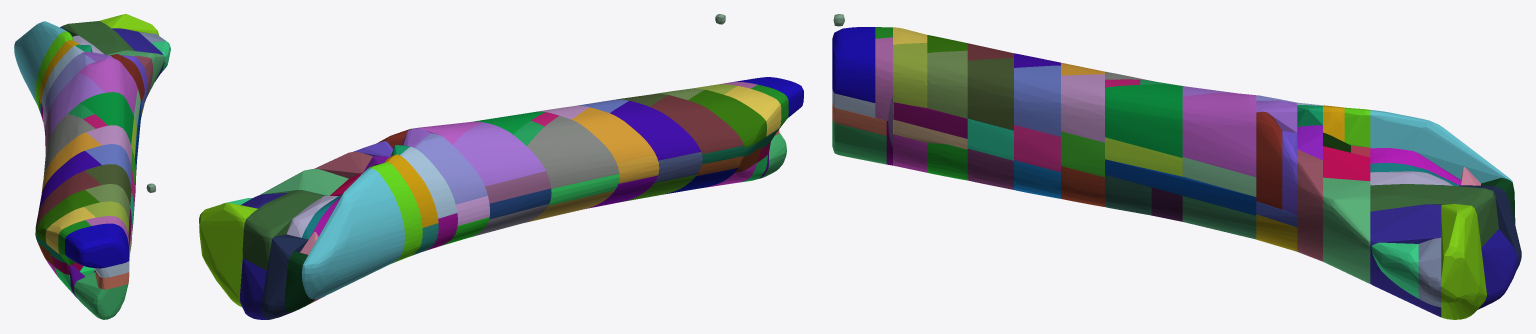
File: proximal_19822_coacd.obj
3 renders of one model, left to right at view 1: azimuth 30°, elevation 25°; view 2: azimuth 150°, elevation 25°; view 3: azimuth 270°, elevation 25°, orthographic. The views are drawn at different scales.
Visible parts, largest first — view 1: geometry_5, geometry_2, geometry_38, geometry_10, geometry_33, geometry_40, geometry_19, geometry_35, geometry_65, geometry_71, geometry_77, geometry_75 (+35 smaller); view 2: geometry_2, geometry_35, geometry_4, geometry_40, geometry_19, geometry_71, geometry_65, geometry_12, geometry_75, geometry_21, geometry_77, geometry_17 (+28 smaller); view 3: geometry_38, geometry_33, geometry_4, geometry_3, geometry_2, geometry_18, geometry_19, geometry_63, geometry_5, geometry_69, geometry_42, geometry_73 (+41 smaller).
Boxes of the visible parts, left/top/right/bottom form: geometry_5: left=65, top=223, right=128, bottom=268; geometry_2: left=14, top=21, right=67, bottom=104; geometry_38: left=78, top=58, right=137, bottom=115; geometry_10: left=74, top=272, right=128, bottom=319; geometry_33: left=80, top=92, right=133, bottom=145; geometry_40: left=49, top=73, right=104, bottom=134; geometry_19: left=61, top=21, right=134, bottom=54; geometry_35: left=43, top=114, right=95, bottom=177; geometry_65: left=36, top=170, right=101, bottom=228; geometry_71: left=39, top=151, right=101, bottom=209; geometry_77: left=35, top=190, right=99, bottom=243; geometry_75: left=44, top=132, right=101, bottom=186; geometry_2: left=302, top=168, right=404, bottom=299; geometry_35: left=527, top=115, right=619, bottom=188; geometry_4: left=199, top=202, right=257, bottom=306; geometry_40: left=453, top=122, right=545, bottom=186; geometry_19: left=242, top=190, right=323, bottom=270; geometry_71: left=610, top=100, right=700, bottom=160; geometry_65: left=650, top=95, right=743, bottom=153; geometry_12: left=414, top=133, right=487, bottom=204; geometry_75: left=571, top=107, right=655, bottom=163; geometry_21: left=261, top=234, right=307, bottom=319; geometry_77: left=688, top=90, right=766, bottom=147; geometry_17: left=368, top=162, right=422, bottom=263; geometry_38: left=1182, top=92, right=1256, bottom=177; geometry_33: left=1105, top=84, right=1182, bottom=157; geometry_4: left=1441, top=204, right=1486, bottom=319; geometry_3: left=1323, top=177, right=1370, bottom=283; geometry_2: left=1370, top=110, right=1512, bottom=183; geometry_18: left=1370, top=204, right=1441, bottom=317; geometry_19: left=1370, top=184, right=1498, bottom=247; geometry_63: left=967, top=58, right=1013, bottom=130; geometry_5: left=832, top=27, right=875, bottom=102; geometry_69: left=1014, top=65, right=1060, bottom=136; geometry_42: left=1105, top=159, right=1256, bottom=215; geometry_73: left=1061, top=74, right=1104, bottom=142.
Size of the model in its own units: 0.0789 by 0.0329 by 0.113.
